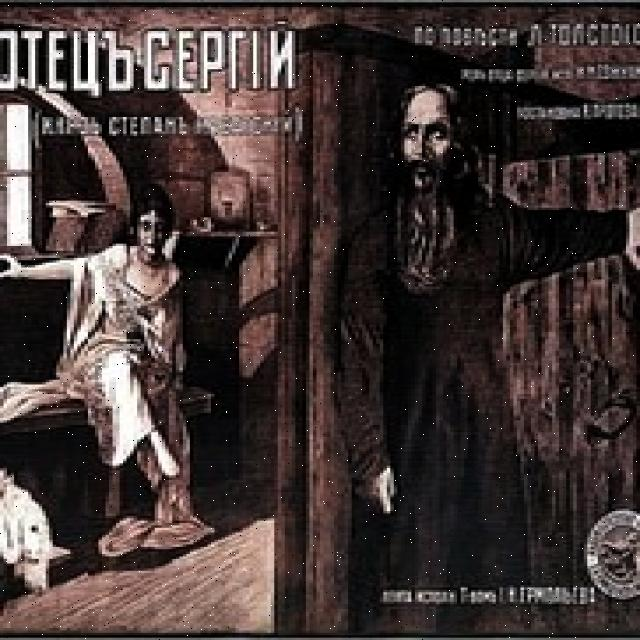movie-judul: (0, 19, 305, 99)
picture: (0, 81, 640, 640)
